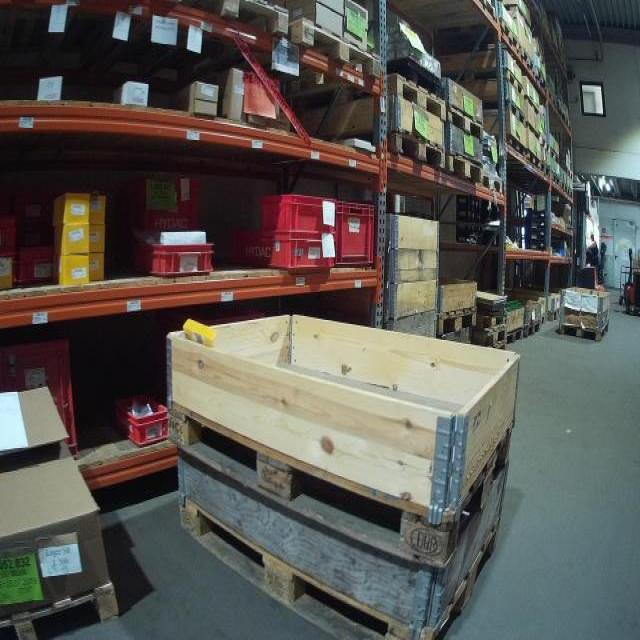pallet: (168, 389, 513, 570), (180, 485, 505, 634), (1, 566, 122, 637), (294, 72, 449, 126), (292, 15, 384, 101), (318, 129, 446, 175), (183, 3, 291, 48), (445, 65, 525, 99), (437, 299, 480, 335), (477, 101, 528, 129), (557, 319, 612, 344), (449, 103, 486, 139), (446, 153, 482, 189), (489, 24, 522, 57), (456, 1, 499, 25), (469, 313, 508, 336), (498, 136, 529, 163), (473, 327, 507, 351), (515, 46, 537, 78), (499, 328, 525, 355), (481, 169, 505, 198), (518, 319, 541, 342), (526, 119, 542, 143), (522, 153, 542, 171), (524, 93, 537, 111), (538, 134, 551, 152), (549, 149, 560, 164), (549, 180, 562, 192), (540, 169, 549, 182)
pallet_truck: (574, 188, 608, 290), (612, 239, 639, 315)
small_load_carrier: (5, 333, 81, 460), (124, 173, 214, 253), (223, 231, 336, 279), (103, 379, 170, 447), (129, 231, 217, 278), (258, 191, 340, 237), (336, 202, 374, 264), (16, 238, 63, 284), (1, 211, 22, 258)
